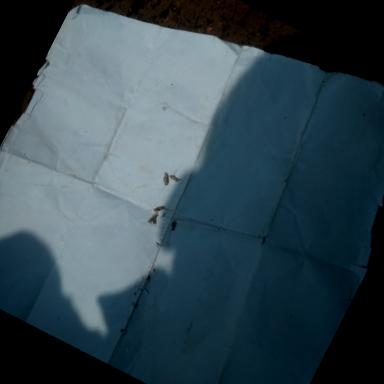pbw: (152, 202, 165, 215), (160, 172, 172, 186), (146, 212, 158, 226), (168, 174, 180, 182)
